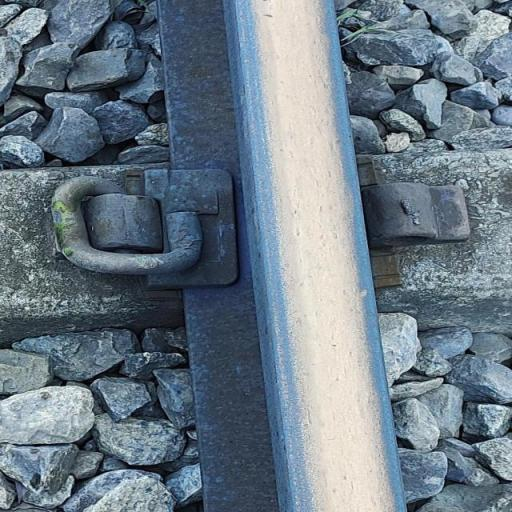erc_good: (15, 169, 228, 283)
erc_missing: (353, 172, 493, 258)
